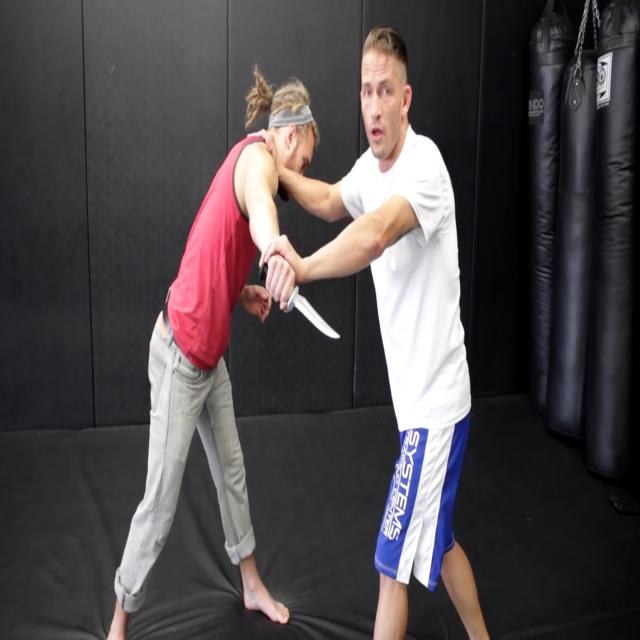knife: (294, 290, 346, 355)
